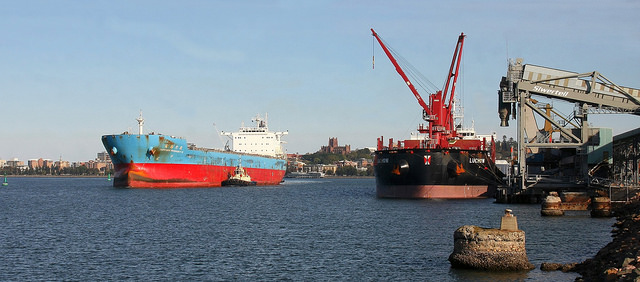bulk carrier: (369, 25, 491, 198), (104, 112, 286, 189)
tug_boat: (221, 158, 255, 189)
